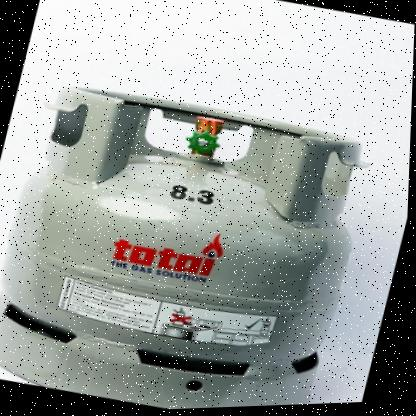gas-tank: (0, 54, 400, 415)
